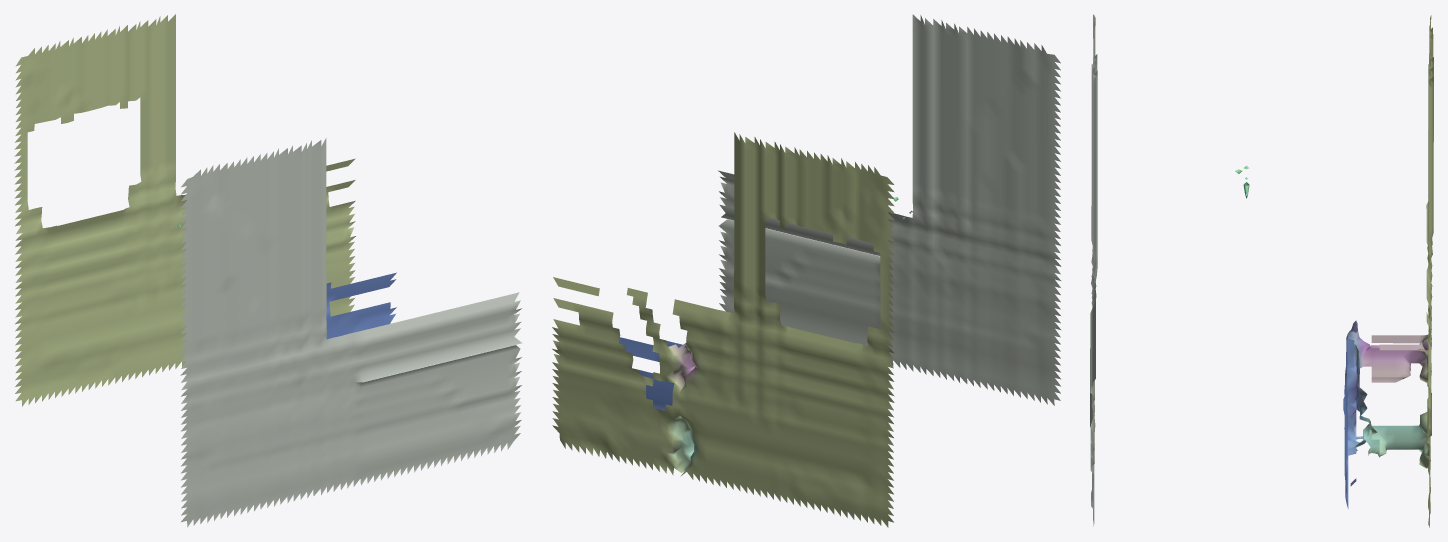
File: tile_7e4ccbd5fe0e_0_0_0_0_lod0.glb
3 views of the same model, side by side, from view 1: azimuth 30°, elevation 25°; view 2: azimuth 150°, elevation 25°; view 3: azimuth 270°, elevation 25° (orthographic).
Bounding box in the file's own units: 4.08 × 4.08 × 3.52.
